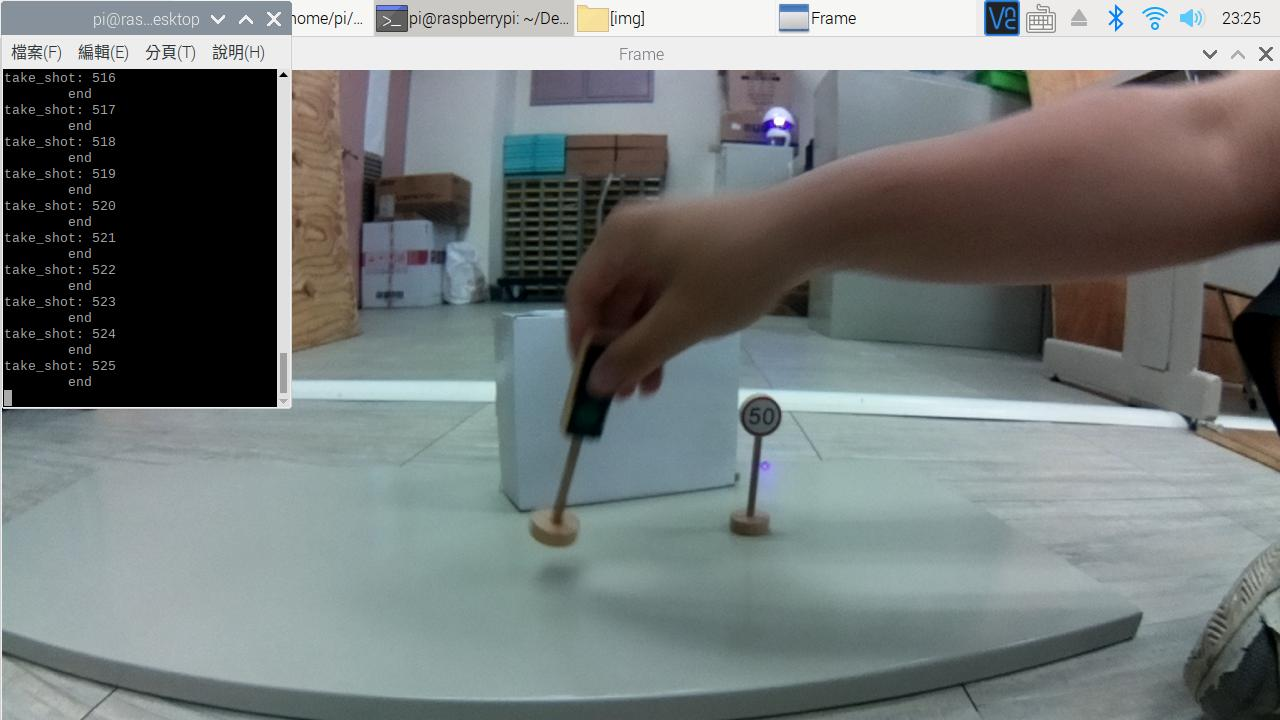Speed50: (727, 391, 795, 449)
